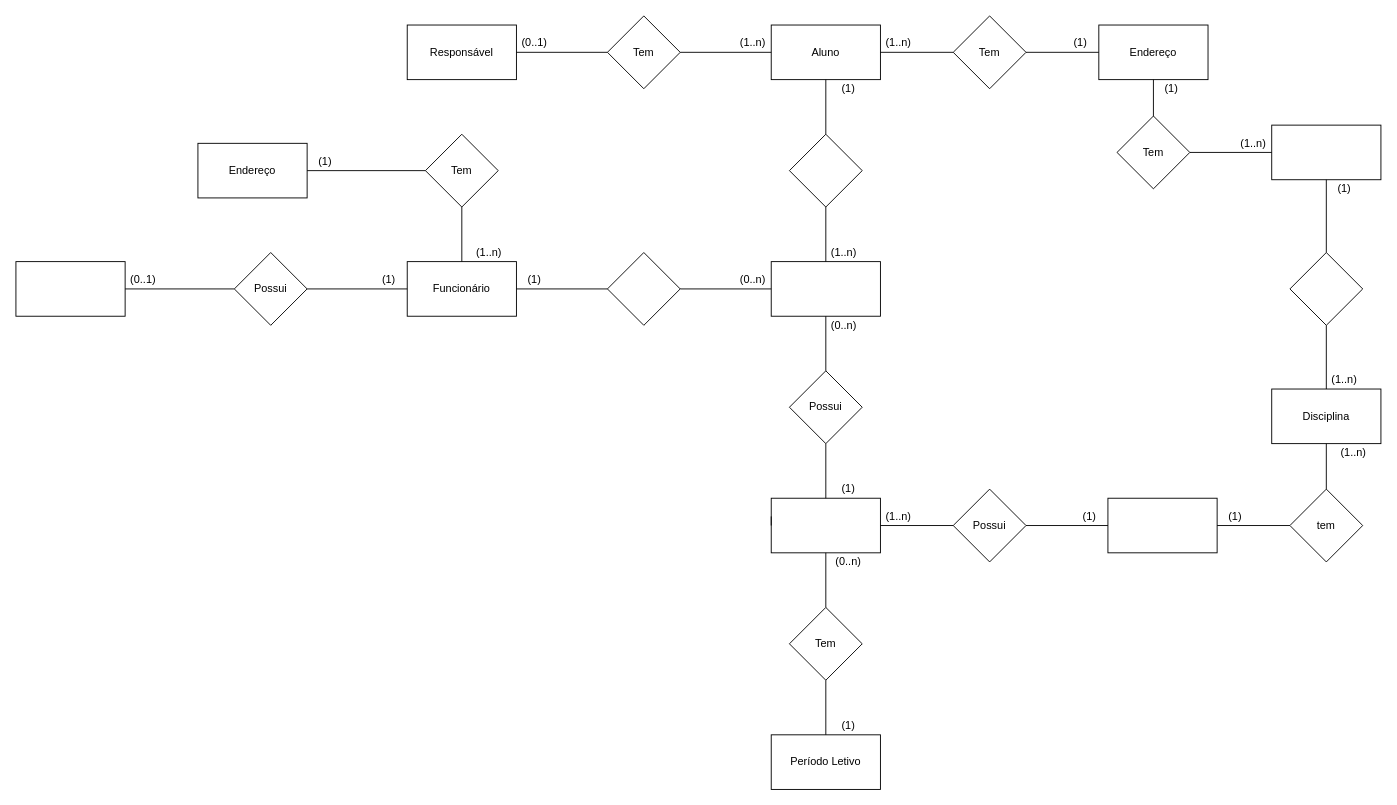
Some shapes in this 1397 by 805 pixel diagram are drawn without their labels. The centre of each missing label's shape, as x and y in pixels:
"Faz" belongs at (x=825, y=170).
"Leciona" belongs at (x=1326, y=288).
"Matricula" belongs at (x=825, y=288).
"Professor" belongs at (x=1326, y=152).
"Realiza" belongs at (x=643, y=288).
"Série" belongs at (x=1162, y=525).
"Turma" belongs at (x=825, y=525).
"Usuário" belongs at (x=70, y=288).
